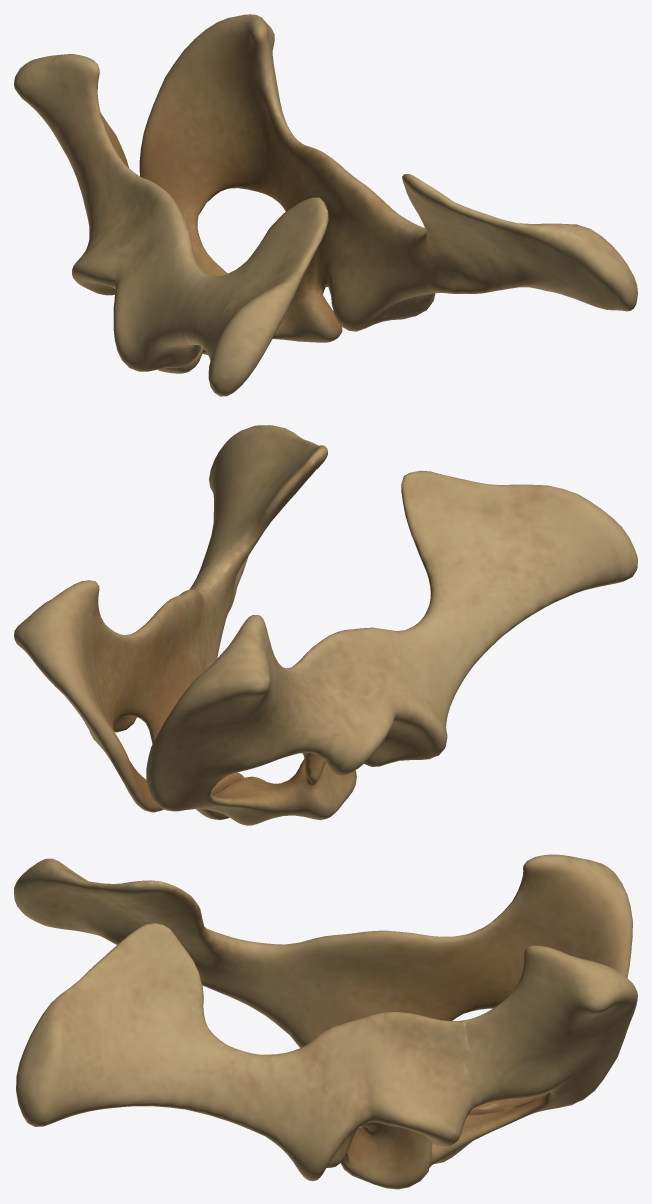
The model's file is Body of Illium.glb.
The picture shows the model from 3 angles, top to bottom: view 1: azimuth 30°, elevation 25°; view 2: azimuth 150°, elevation 25°; view 3: azimuth 270°, elevation 25°; orthographic projection.
Parts seen in each view (by area): view 1: ZBrush_defualt_group.001; view 2: ZBrush_defualt_group.001; view 3: ZBrush_defualt_group.001.
Boxes of the visible parts, x1=… form: ZBrush_defualt_group.001: x1=14, y1=14, x2=637, y2=396; ZBrush_defualt_group.001: x1=14, y1=425, x2=637, y2=825; ZBrush_defualt_group.001: x1=14, y1=854, x2=637, y2=1189.
Bounding box in the file's own units: 192 × 115 × 246.
1 material, 1 textured.
